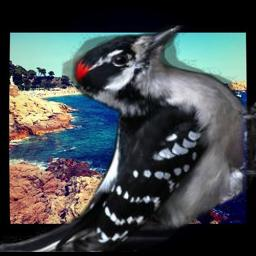Woodpecker: (0, 25, 256, 252)
